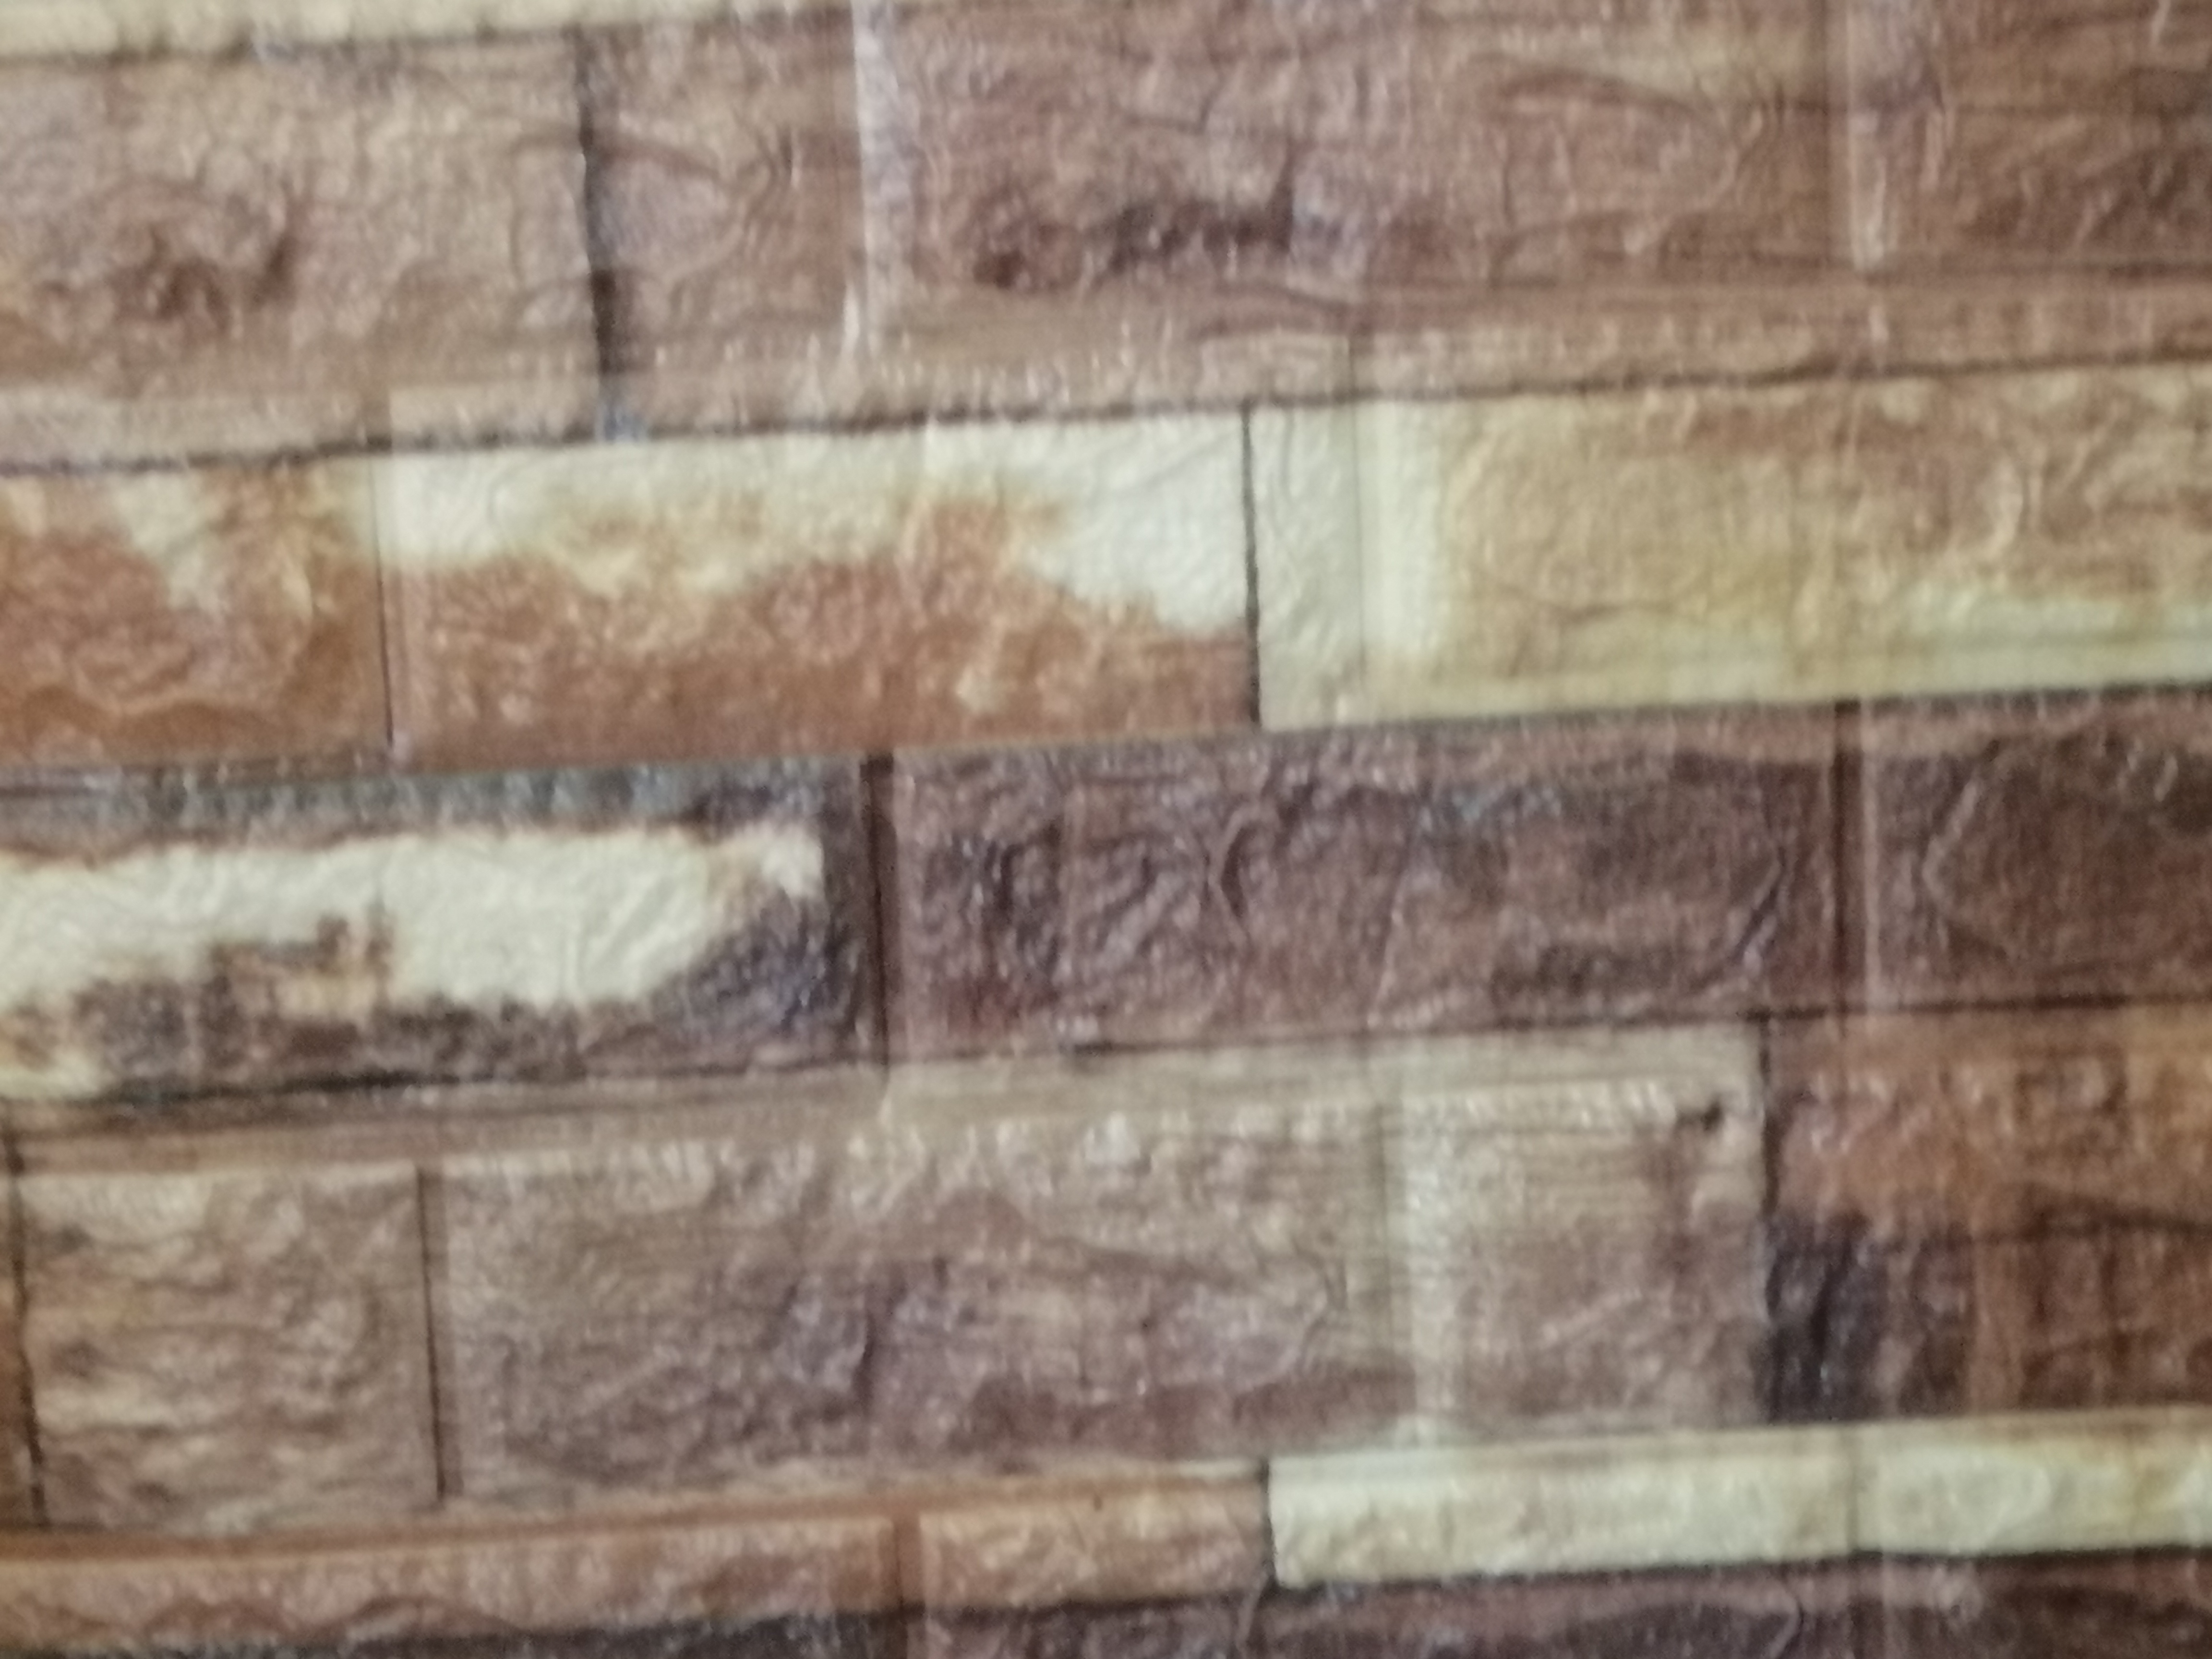wall: (51, 28, 2156, 1582)
